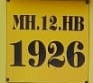character: (65, 39, 86, 68), (27, 39, 47, 68), (46, 39, 65, 68), (8, 39, 26, 67), (12, 13, 24, 30), (61, 14, 73, 31), (24, 14, 36, 30), (73, 14, 84, 31), (48, 14, 58, 30), (40, 14, 47, 31)
